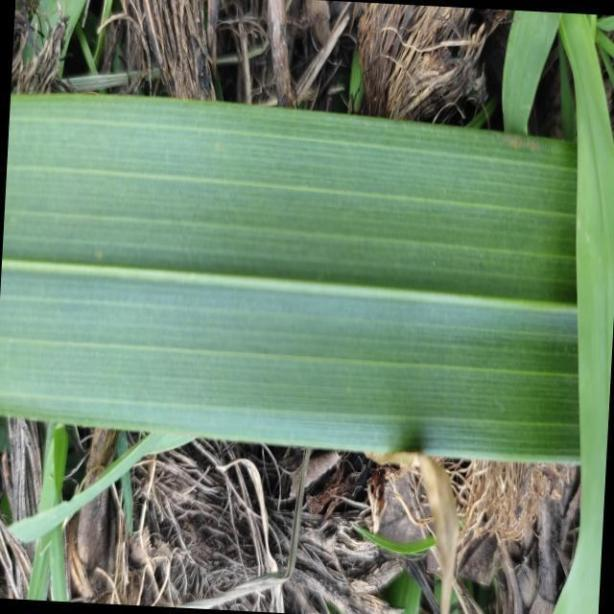Healthy: (3, 92, 614, 454)
